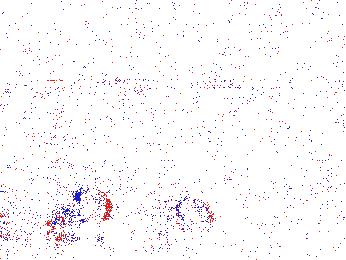flame jellyfish: (45, 188, 111, 231), (156, 195, 214, 243), (18, 100, 67, 148)
